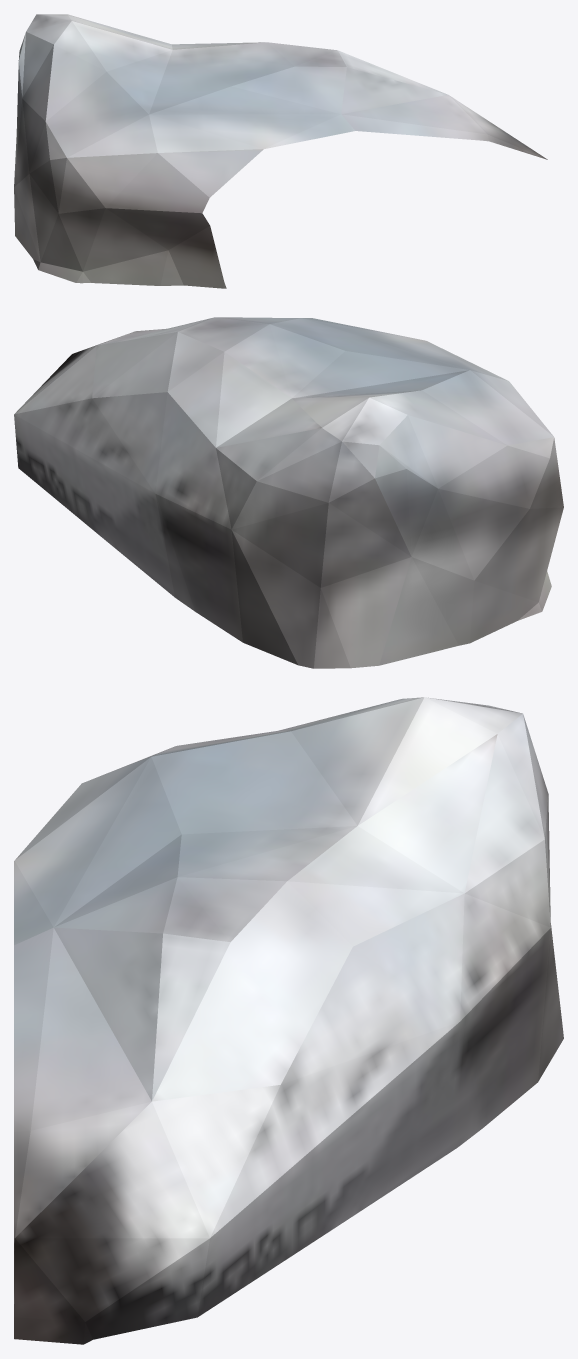
3 renders of one model, top to bottom at view 1: azimuth 30°, elevation 25°; view 2: azimuth 150°, elevation 25°; view 3: azimuth 270°, elevation 25°, orthographic. The views are drawn at different scales.
Size of the model in its own units: 0.5283 by 0.2053 by 0.3127.
1 material, 1 textured.
